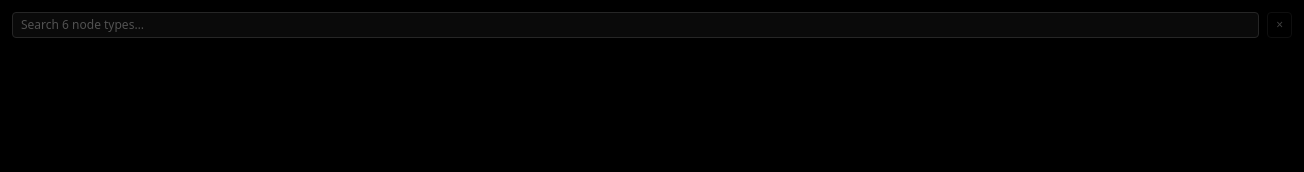
Scenario: SearchPanel › shows a no-results state
In the field named "Search graph nodes": point(636, 25) [12, 12, 1259, 38], type "nothing-matches"
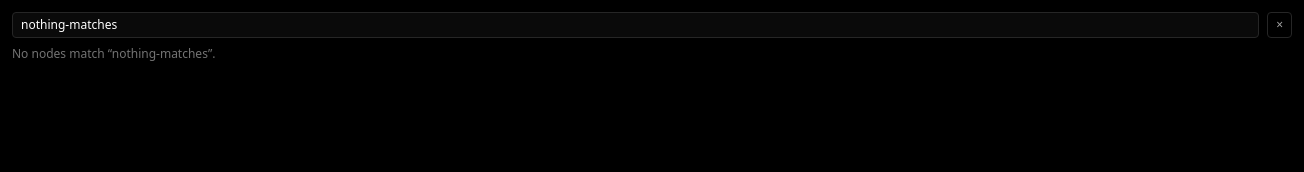
Expected: the message shows "No nodes match", [12, 45, 112, 62]
